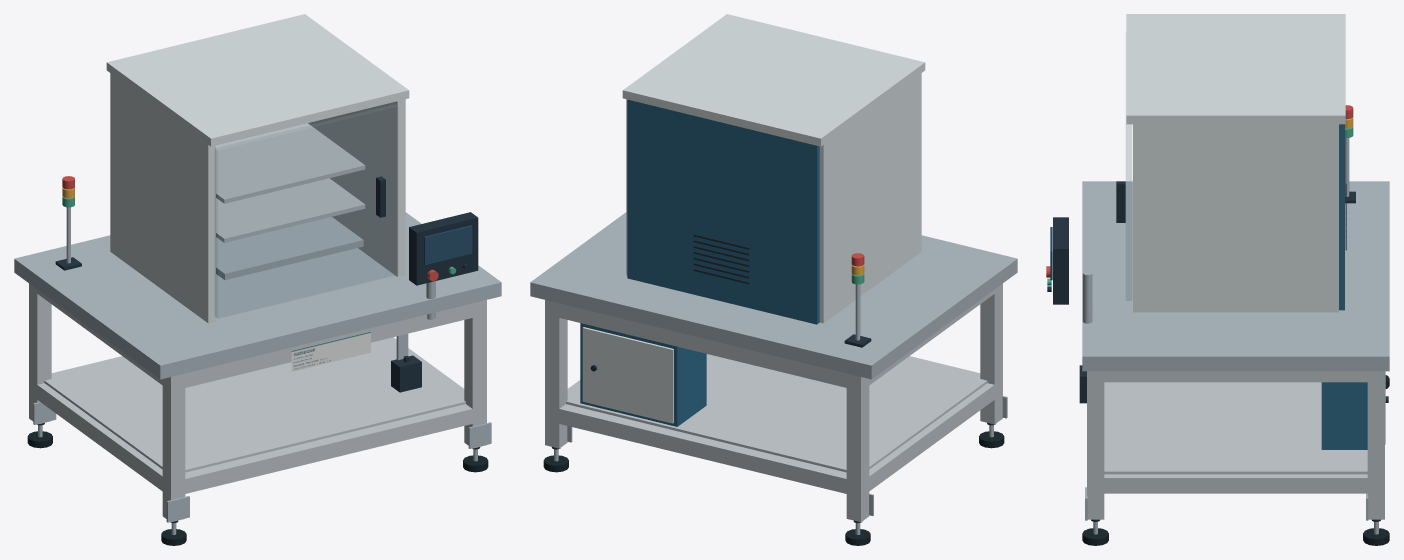
File: environment-test-cell.glb
The picture shows the model from 3 angles, left to right: view 1: azimuth 30°, elevation 25°; view 2: azimuth 150°, elevation 25°; view 3: azimuth 270°, elevation 25°; orthographic projection. The views are drawn at different scales.
Visible parts, largest first — view 1: ClosedMachineBed_28, DoorFrame_52, LowerShelf_29, ClosedRoof_51, EnclosureSide_48, EnclosureSide_49, InternalRack_56, SlottedExtrusion_22, InternalRack_55, ProcessShelf_54, SlottedExtrusion_23, SlottedExtrusion_8 (+8 smaller); view 2: ClosedBack_50, ClosedMachineBed_28, ClosedRoof_51, LowerShelf_29, EnclosureSide_48, BackDoor_31, SlottedExtrusion_20, SlottedExtrusion_21, SlottedExtrusion_3, Cabinet_30, SlottedExtrusion_13, SlottedExtrusion_24 (+2 smaller); view 3: EnclosureSide_49, ClosedMachineBed_28, ClosedRoof_51, LowerShelf_29, SlottedExtrusion_26, SlottedExtrusion_27, Cabinet_30, SlottedExtrusion_18, SlottedExtrusion_13, ConsoleBack_34, ClosedBack_50, DoorFrame_52 (+2 smaller).
Boxes of the visible parts, x1=… form: ClosedMachineBed_28: x1=14, y1=212, x2=501, y2=379; DoorFrame_52: x1=215, y1=104, x2=398, y2=318; LowerShelf_29: x1=44, y1=338, x2=465, y2=472; ClosedRoof_51: x1=106, y1=14, x2=409, y2=146; EnclosureSide_48: x1=110, y1=73, x2=215, y2=323; EnclosureSide_49: x1=308, y1=99, x2=405, y2=276; InternalRack_56: x1=216, y1=123, x2=365, y2=203; SlottedExtrusion_22: x1=178, y1=404, x2=476, y2=495; InternalRack_55: x1=216, y1=178, x2=365, y2=242; ProcessShelf_54: x1=216, y1=217, x2=363, y2=280; SlottedExtrusion_23: x1=178, y1=303, x2=472, y2=388; SlottedExtrusion_8: x1=162, y1=373, x2=185, y2=522; ClosedBack_50: x1=627, y1=99, x2=819, y2=324; ClosedMachineBed_28: x1=530, y1=212, x2=1017, y2=379; ClosedRoof_51: x1=622, y1=14, x2=925, y2=146; LowerShelf_29: x1=566, y1=354, x2=987, y2=472; EnclosureSide_48: x1=819, y1=73, x2=921, y2=323; BackDoor_31: x1=582, y1=327, x2=673, y2=423; SlottedExtrusion_20: x1=553, y1=404, x2=853, y2=494; SlottedExtrusion_21: x1=559, y1=303, x2=853, y2=387; SlottedExtrusion_3: x1=846, y1=373, x2=869, y2=522; Cabinet_30: x1=580, y1=323, x2=706, y2=426; SlottedExtrusion_13: x1=545, y1=300, x2=567, y2=448; SlottedExtrusion_24: x1=865, y1=383, x2=994, y2=493; EnclosureSide_49: x1=1133, y1=124, x2=1338, y2=312; ClosedMachineBed_28: x1=1082, y1=181, x2=1389, y2=371; ClosedRoof_51: x1=1126, y1=14, x2=1345, y2=124; LowerShelf_29: x1=1104, y1=382, x2=1367, y2=474; SlottedExtrusion_26: x1=1095, y1=474, x2=1376, y2=493; SlottedExtrusion_27: x1=1095, y1=371, x2=1376, y2=382; Cabinet_30: x1=1321, y1=382, x2=1367, y2=449; SlottedExtrusion_18: x1=1087, y1=371, x2=1104, y2=519; SlottedExtrusion_13: x1=1367, y1=371, x2=1384, y2=519; ConsoleBack_34: x1=1053, y1=217, x2=1068, y2=304; ClosedBack_50: x1=1339, y1=124, x2=1344, y2=310; DoorFrame_52: x1=1126, y1=124, x2=1131, y2=300.
Size of the model in its own units: 1.55 by 1.64 by 1.29.
Materials: 12 (1 with a texture image).
